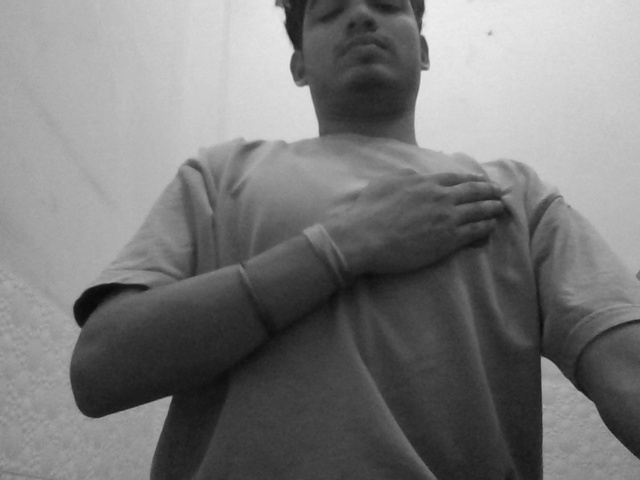Sorry: (310, 152, 524, 303)
